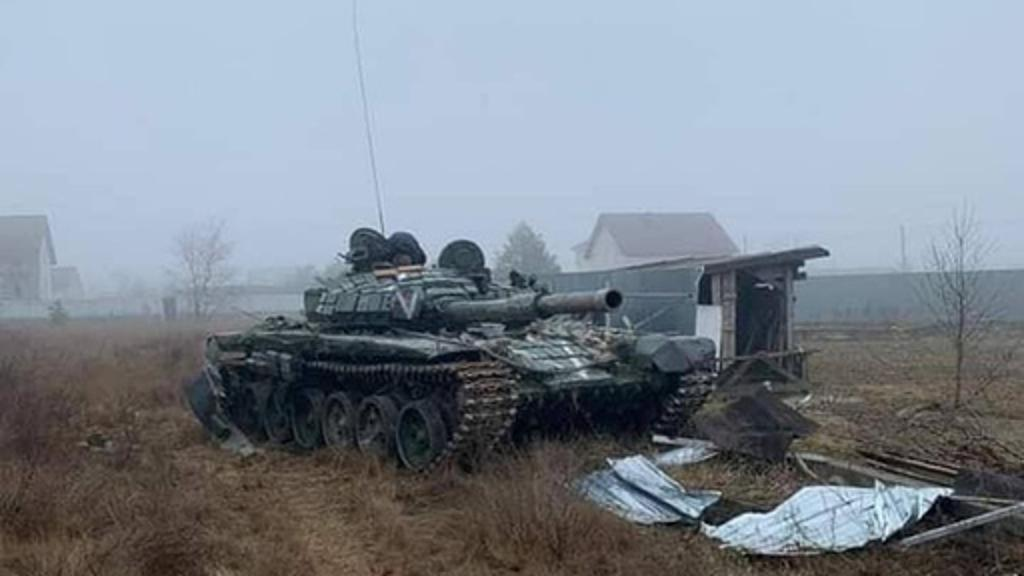TANK: (196, 226, 716, 480)
